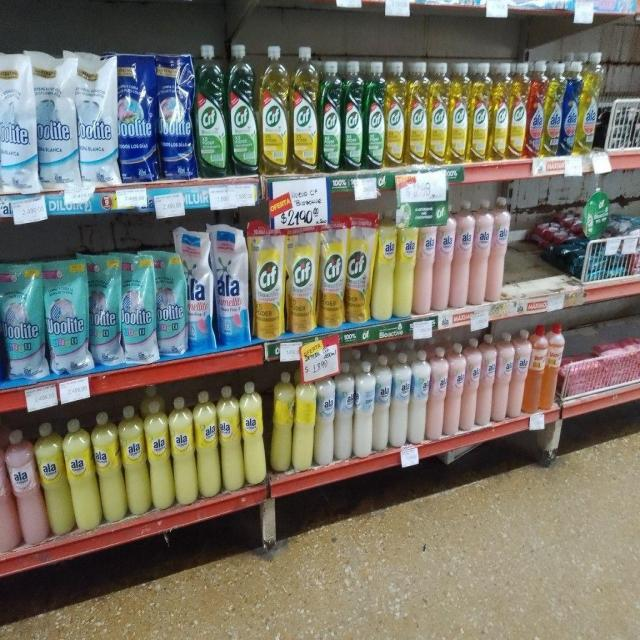ala_conc_amarillo: (579, 55, 598, 155), (545, 61, 562, 157)
ala_conc_azul: (563, 60, 578, 156)
ala_conc_rojo: (528, 60, 544, 158)
ala_crem_amarillo: (67, 416, 96, 531), (40, 422, 68, 537), (96, 410, 122, 523), (122, 404, 147, 517), (147, 396, 171, 511), (172, 395, 196, 505), (242, 381, 266, 486), (196, 389, 218, 498), (220, 385, 242, 491), (374, 215, 395, 321), (396, 214, 414, 318)
ala_crem_blanco: (354, 360, 374, 457), (335, 361, 354, 461), (391, 351, 410, 448), (316, 368, 334, 466), (411, 349, 428, 444), (374, 354, 390, 452)
ala_crem_rosado: (11, 428, 41, 546), (453, 199, 472, 309), (490, 196, 509, 303), (472, 198, 490, 306), (434, 204, 452, 312), (416, 210, 434, 315), (447, 341, 464, 437), (429, 346, 446, 441), (495, 331, 512, 422), (479, 333, 495, 426), (0, 431, 12, 554), (512, 328, 528, 418), (464, 336, 479, 431)
cif_conc_bot_amarilla: (259, 44, 289, 175), (291, 45, 318, 174), (385, 60, 406, 167), (407, 60, 428, 165), (428, 60, 448, 165), (449, 61, 469, 164), (470, 62, 490, 162), (491, 61, 509, 161), (510, 61, 527, 160)
cif_conc_botella_verde: (195, 43, 227, 178), (228, 42, 257, 176), (320, 60, 341, 174), (343, 59, 363, 171), (364, 60, 384, 169)
cif_conc_sachet_amarillo: (252, 219, 284, 340), (286, 222, 317, 334), (319, 216, 345, 328), (347, 213, 372, 324)
